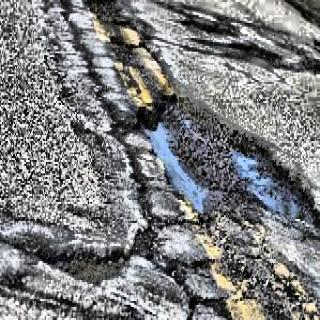alligator-crack: (110, 122, 220, 320), (138, 0, 320, 80)
pothole: (133, 84, 314, 239), (39, 212, 139, 296)
